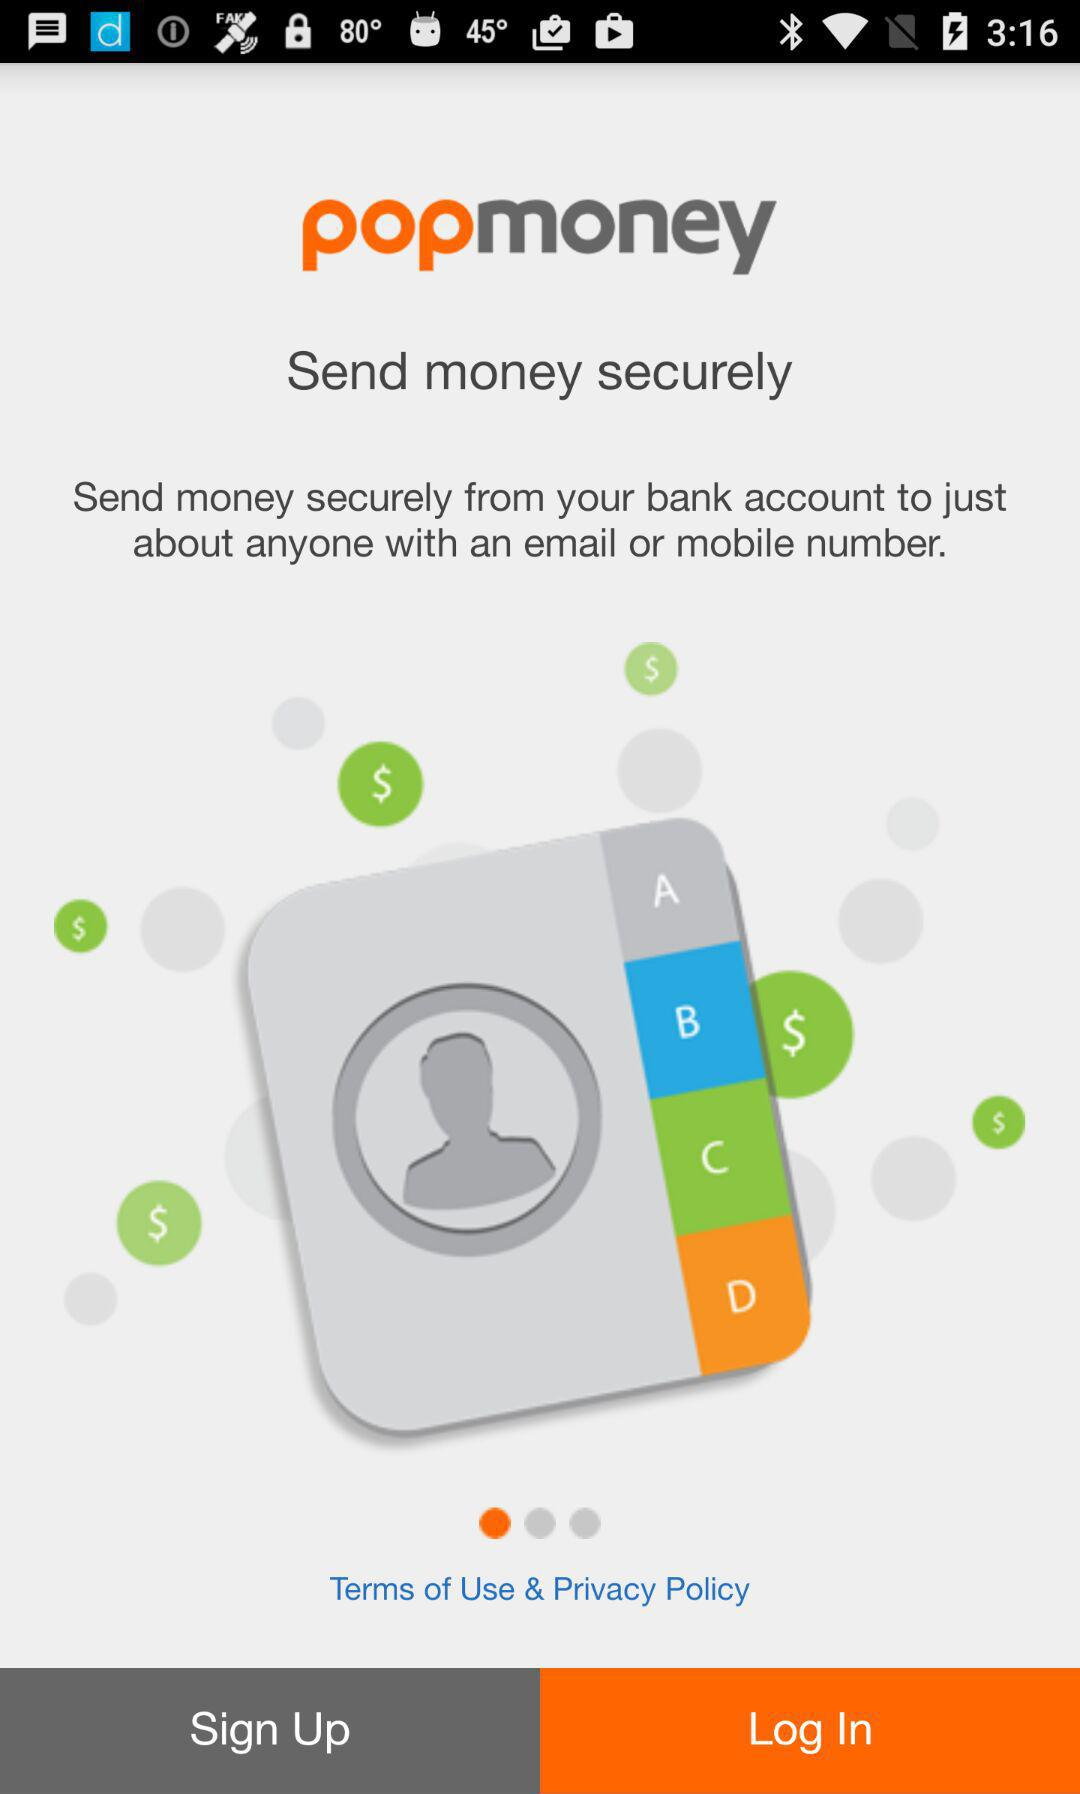Image: (46, 632, 1029, 1445), (302, 199, 778, 279)
PageIndicator: (478, 1504, 603, 1542)
Text: (74, 481, 1008, 566), (288, 349, 796, 401), (331, 1574, 752, 1607)
TextButton: (541, 1668, 1080, 1794), (1, 1668, 541, 1794)
UpperTaskBar: (1, 1, 1080, 64)
